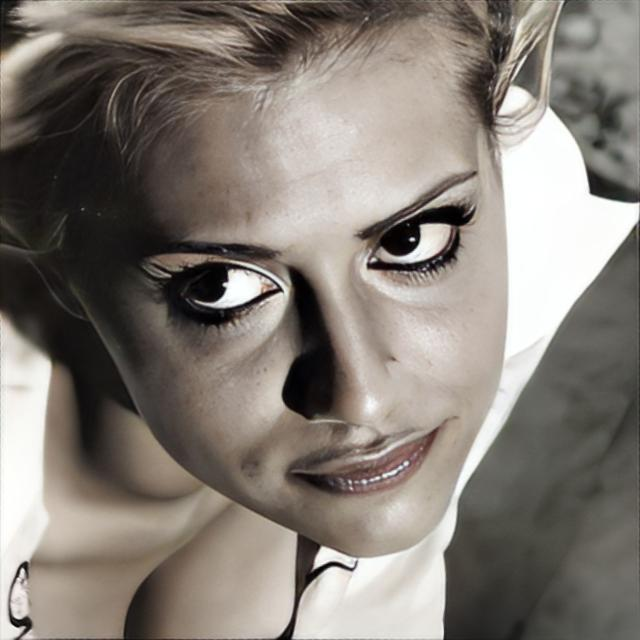content: (64, 0, 509, 560)
